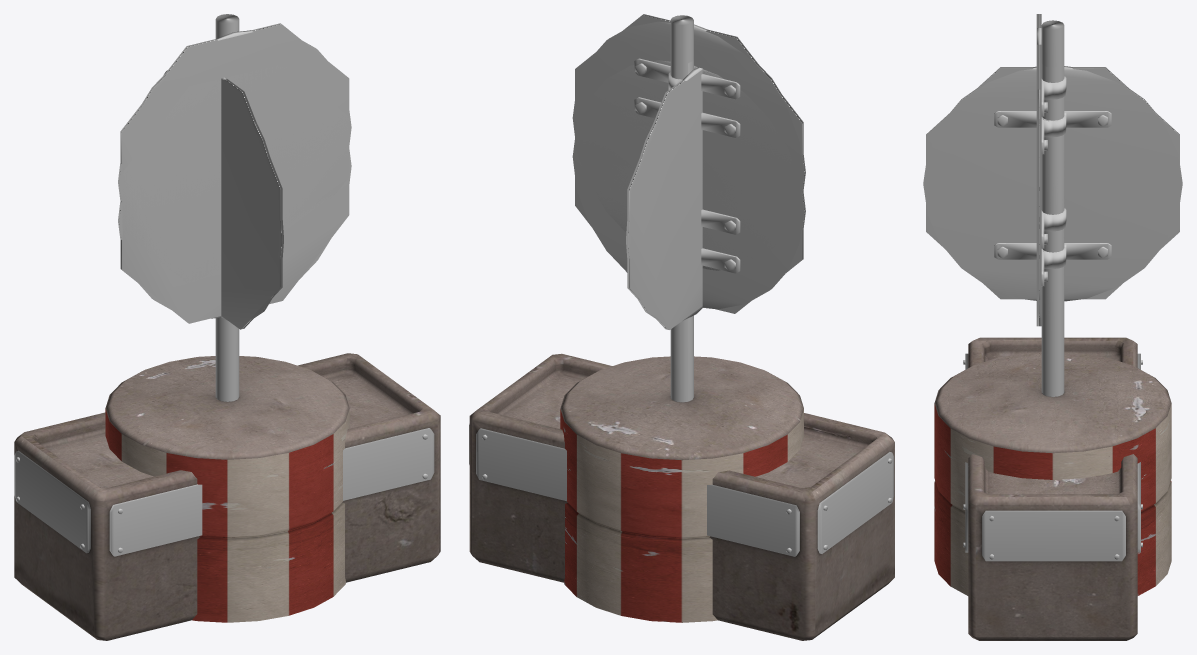
File: schilder_verkehrsfuehrung_01.fbx
The picture shows the model from 3 angles, left to right: view 1: azimuth 30°, elevation 25°; view 2: azimuth 150°, elevation 25°; view 3: azimuth 270°, elevation 25°; orthographic projection. The views are drawn at different scales.
Visible parts, largest first — view 1: betonblock_rund_stop, betonblock_eckig_laengst_30, betonblock_eckig_quer_stop, betonblock_eckig_laengst_stop, betonblock_rund_einfahrt_verboten; view 2: betonblock_eckig_laengst_30, betonblock_rund_stop, betonblock_eckig_quer_einfahrt_verboten, betonblock_rund_einfahrt_verboten, betonblock_eckig_laengst_stop, betonblock_eckig_quer_stop; view 3: betonblock_eckig_laengst_30, betonblock_rund_stop, betonblock_eckig_quer_stop, betonblock_eckig_laengst_stop, betonblock_rund_einfahrt_verboten.
Part boxes in pixels (<box>): betonblock_rund_stop: <box>105,14,349,622</box>; betonblock_eckig_laengst_30: <box>14,70,440,640</box>; betonblock_eckig_quer_stop: <box>120,64,349,323</box>; betonblock_eckig_laengst_stop: <box>221,79,282,329</box>; betonblock_rund_einfahrt_verboten: <box>118,30,351,201</box>; betonblock_eckig_laengst_30: <box>469,59,894,640</box>; betonblock_rund_stop: <box>560,14,803,622</box>; betonblock_eckig_quer_einfahrt_verboten: <box>572,60,805,309</box>; betonblock_rund_einfahrt_verboten: <box>572,21,805,270</box>; betonblock_eckig_laengst_stop: <box>627,69,702,329</box>; betonblock_eckig_quer_stop: <box>575,59,803,402</box>; betonblock_eckig_laengst_30: <box>923,63,1182,640</box>; betonblock_rund_stop: <box>934,14,1171,595</box>; betonblock_eckig_quer_stop: <box>1036,63,1065,396</box>; betonblock_eckig_laengst_stop: <box>926,67,1179,299</box>; betonblock_rund_einfahrt_verboten: <box>1037,28,1041,224</box>.
Bounding box in the file's own units: 148 × 220 × 96.22.
